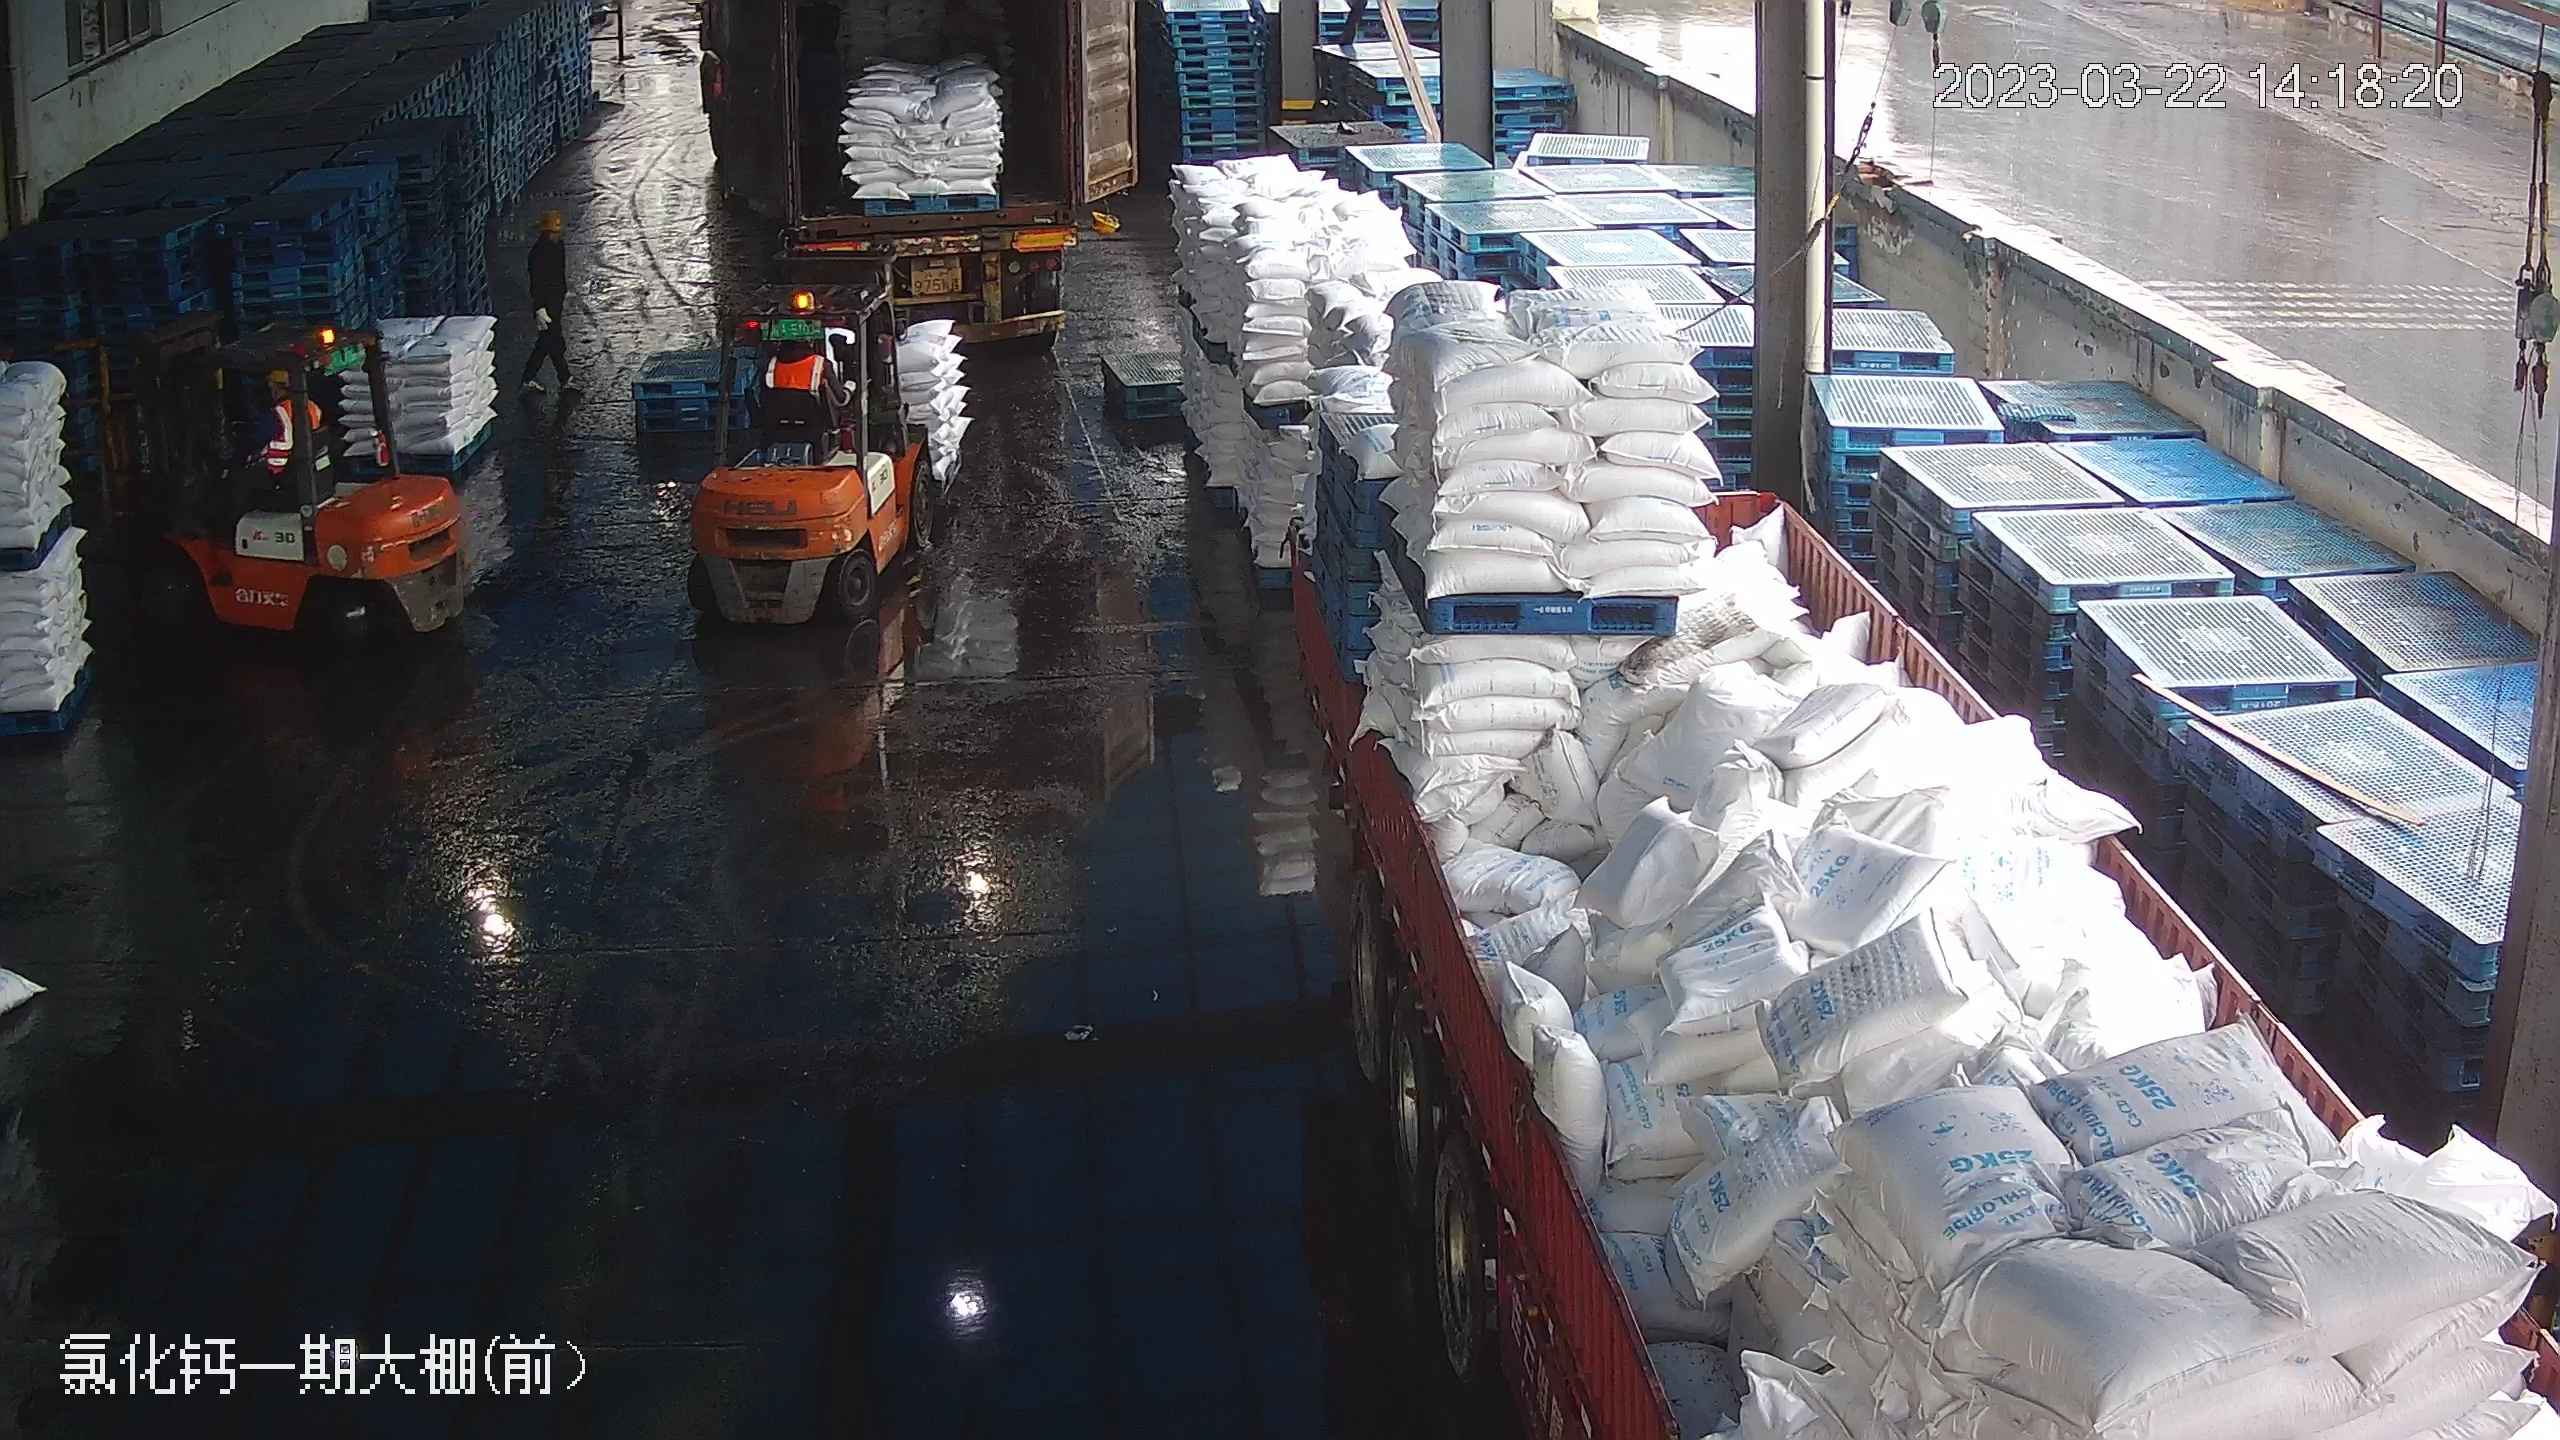head: (257, 364, 314, 424), (527, 208, 570, 262)
helmet: (264, 364, 295, 389), (538, 208, 564, 230)
people: (204, 360, 321, 511), (525, 209, 573, 382)
truck: (1248, 112, 2538, 1432), (723, 1, 1117, 315)
